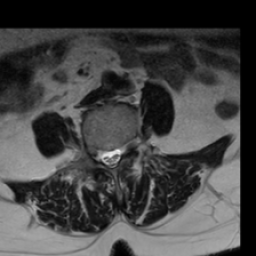CCS_normal: (107, 140, 114, 173)
LFS_normal: (122, 132, 130, 160)
LLS_normal: (114, 140, 122, 167)
RFS_normal: (91, 137, 100, 168)
RLS_normal: (100, 140, 107, 171)
